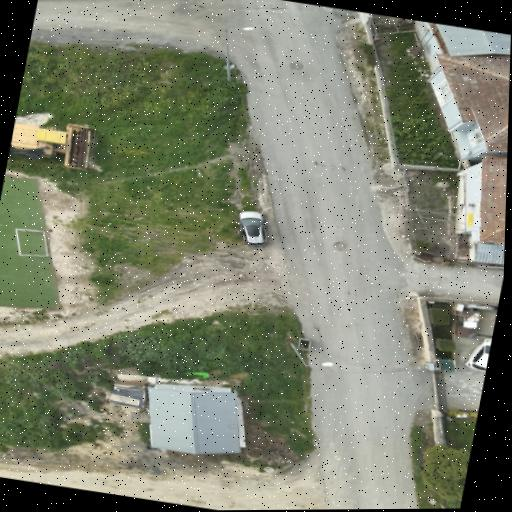car: (238, 211, 266, 246), (464, 338, 491, 371)
harvester: (10, 124, 95, 169)
